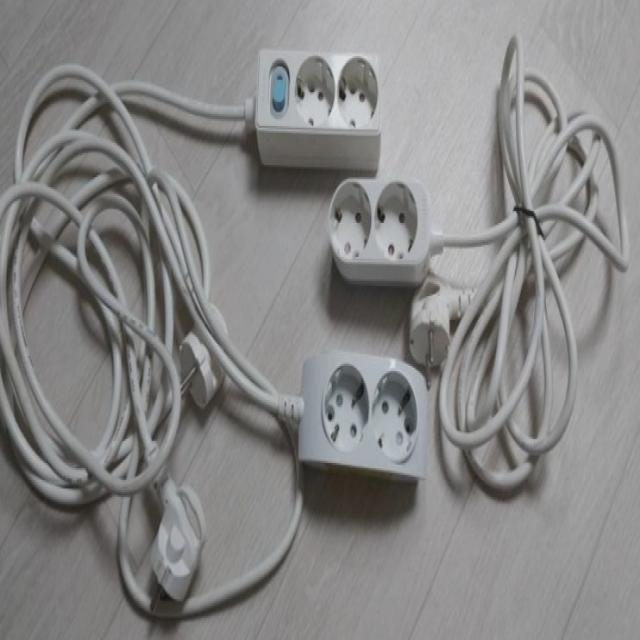typeb: (296, 339, 437, 497), (252, 39, 388, 142), (327, 173, 442, 281)
